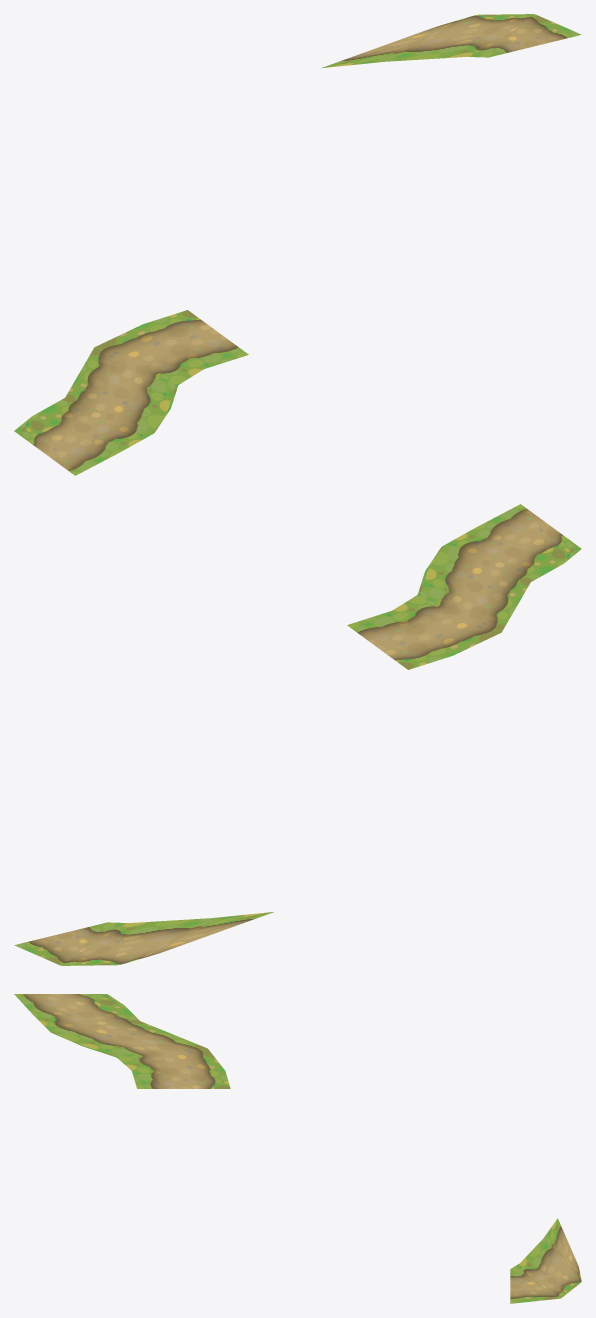
3 renders of one model, top to bottom at view 1: azimuth 30°, elevation 25°; view 2: azimuth 210°, elevation 25°; view 3: azimuth 270°, elevation 25°, orthographic. The views are drawn at different scales.
Parts seen in each view (by area): view 1: D-Room Deko Suburb O; view 2: D-Room Deko Suburb O; view 3: D-Room Deko Suburb O.
Part boxes in pixels (box(x1,y1,x2,y2)): D-Room Deko Suburb O: box(14, 14, 581, 475); D-Room Deko Suburb O: box(14, 504, 581, 965); D-Room Deko Suburb O: box(14, 994, 581, 1303).
Bounding box in the file's own units: 17.78 × 0 × 13.78.
Materials: 1 (1 with a texture image).
